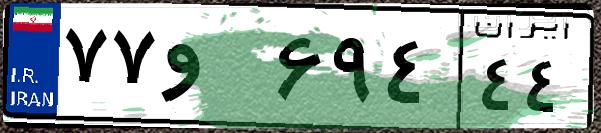4: (385, 28, 445, 110), (475, 38, 525, 113), (525, 38, 570, 115)
6: (270, 28, 330, 110)
7: (57, 26, 110, 100), (110, 28, 158, 98)
9: (330, 28, 385, 110)
و: (158, 20, 270, 120)
